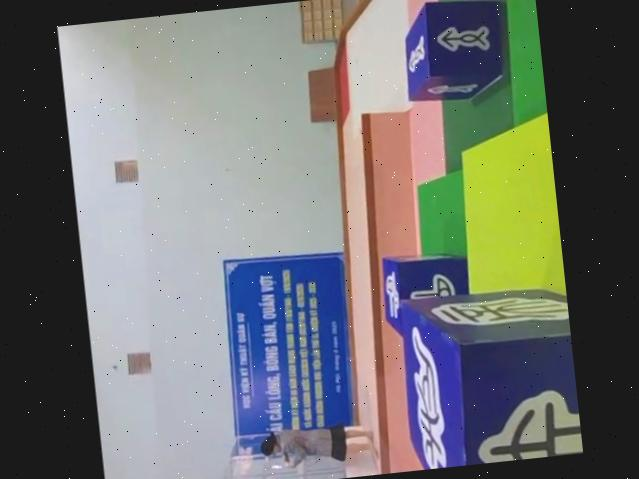R2 Fake Blue: (387, 285, 583, 472)
R2 Real Blue: (398, 0, 512, 103)
